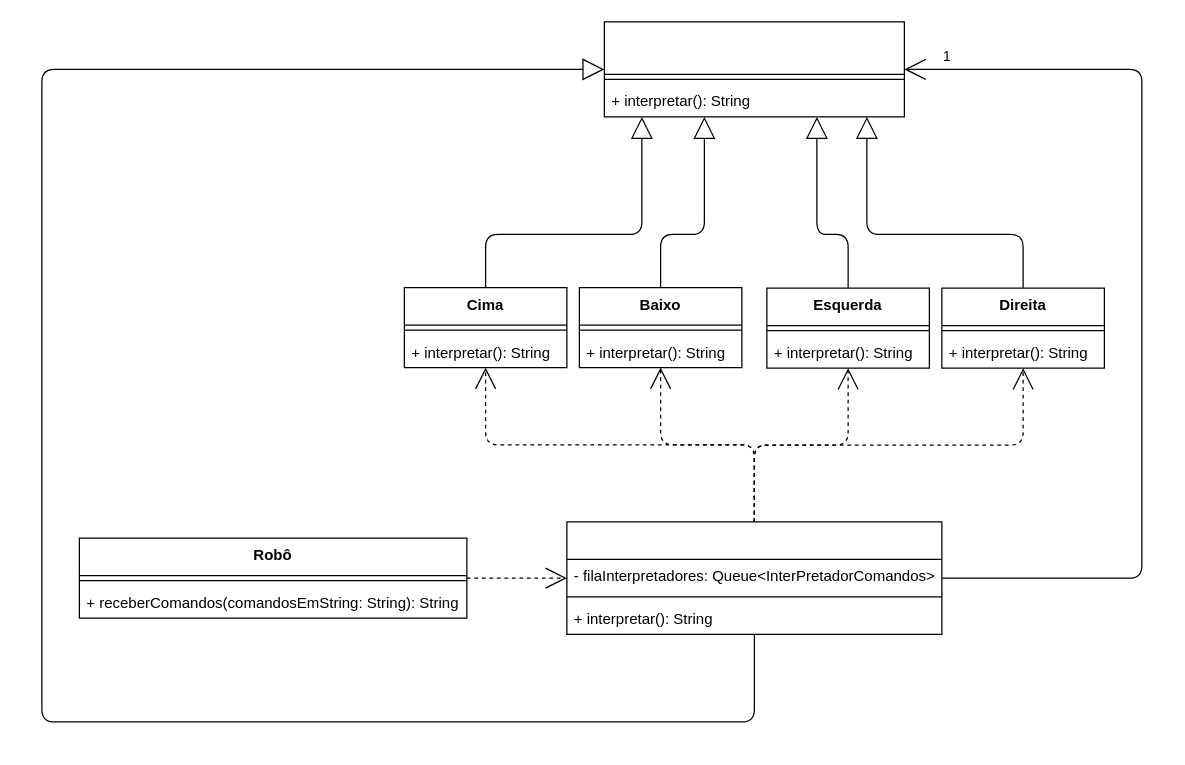
The diagram is 1185 pixels wide and 765 high, and some of its shapes have lost their labels. Each missing label, with the box of its shape:
<<interface>> InterpretadorComandos: (603, 21, 904, 117)
InterpretadorComandosRobô: (566, 521, 942, 634)
